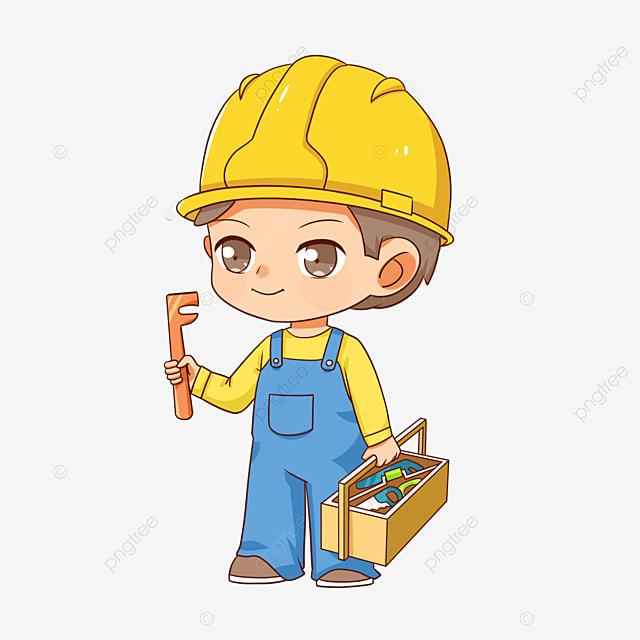Safety-Helmet: (178, 59, 457, 240)
